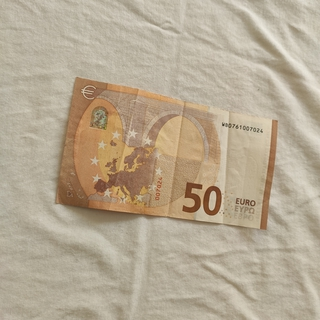50EUROBack: (52, 75, 279, 231)
